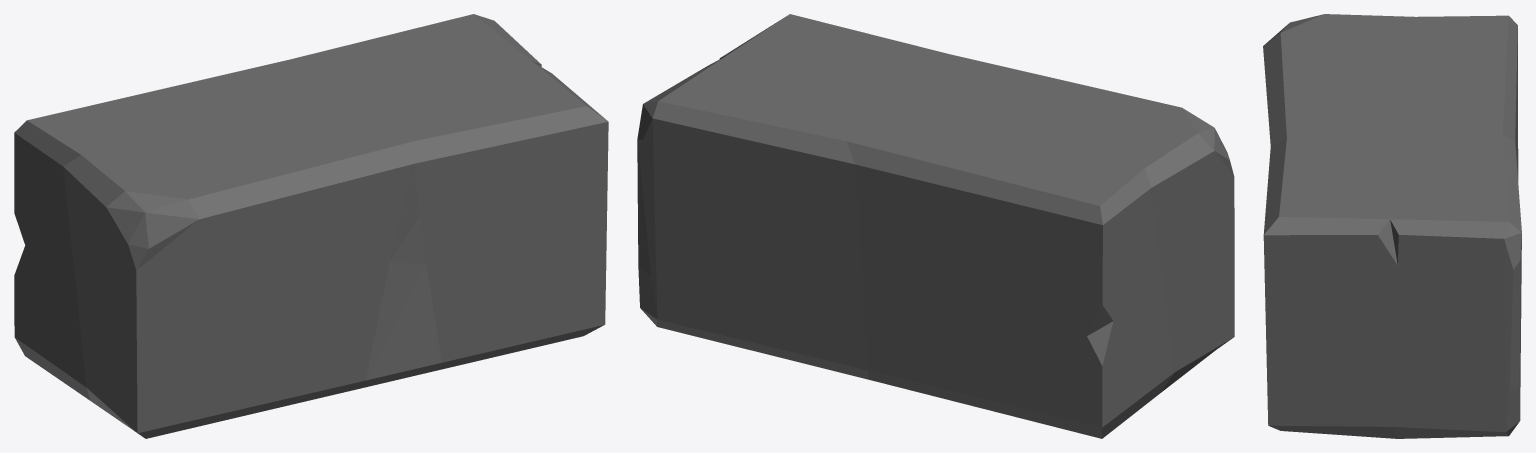
Rendered from BlockStoneA.fbx.
3 renders of one model, left to right at view 1: azimuth 30°, elevation 25°; view 2: azimuth 150°, elevation 25°; view 3: azimuth 270°, elevation 25°, orthographic. The views are drawn at different scales.
Visible parts, largest first — view 1: BlockStoneA; view 2: BlockStoneA; view 3: BlockStoneA.
Boxes of the visible parts, x1,y1,x2,y2 form: BlockStoneA: (14, 14, 608, 438); BlockStoneA: (637, 14, 1234, 438); BlockStoneA: (1263, 14, 1521, 438).
Bounding box in the file's own units: 79.62 × 37.2 × 39.41.
